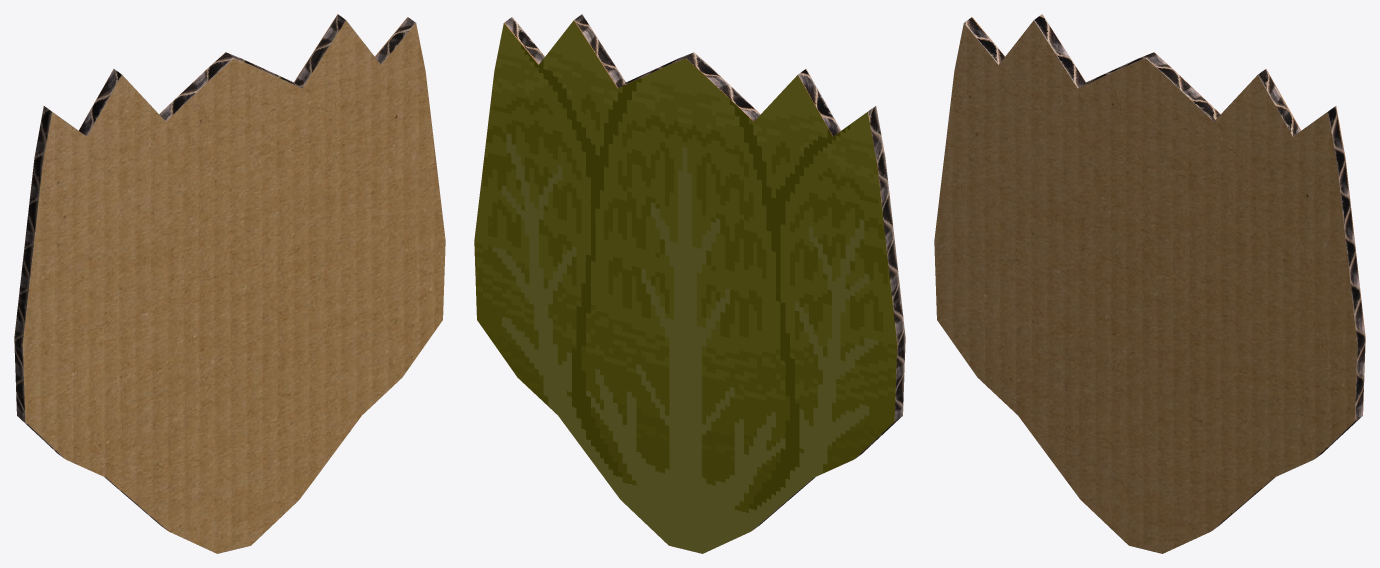
Rendered from LECHUGA_A.glb.
3 views of the same model, side by side, from view 1: azimuth 30°, elevation 25°; view 2: azimuth 150°, elevation 25°; view 3: azimuth 330°, elevation 25° (orthographic).
Visible parts, largest first — view 1: LECHUGA; view 2: LECHUGA; view 3: LECHUGA.
Boxes of the visible parts, x1,y1,x2,y2 form: LECHUGA: (14,14,445,553); LECHUGA: (474,14,905,553); LECHUGA: (934,14,1365,553).
Bounding box in the file's own units: 2.84 × 3.22 × 0.0978.
Materials: 1 (1 with a texture image).
